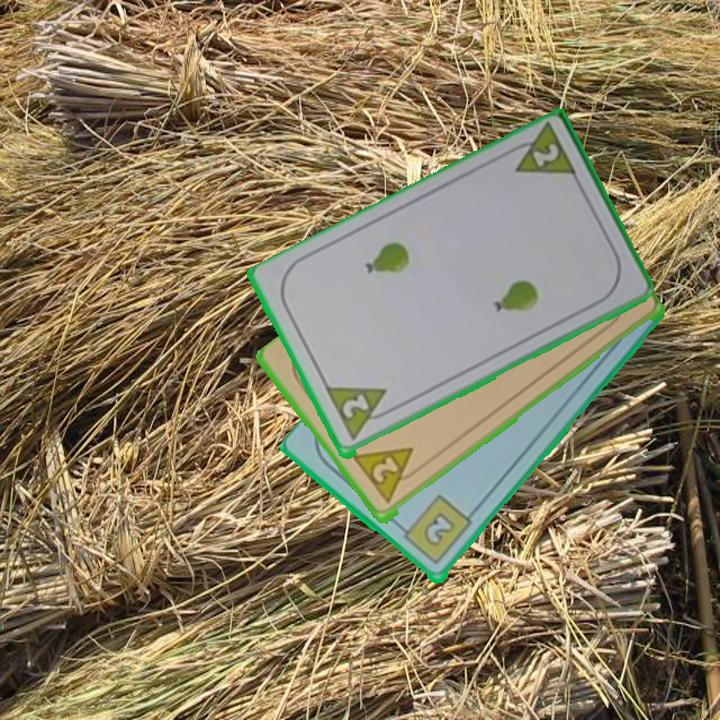2b: (394, 492, 475, 569)
2p: (350, 444, 426, 507), (338, 391, 372, 422), (528, 140, 562, 171)
